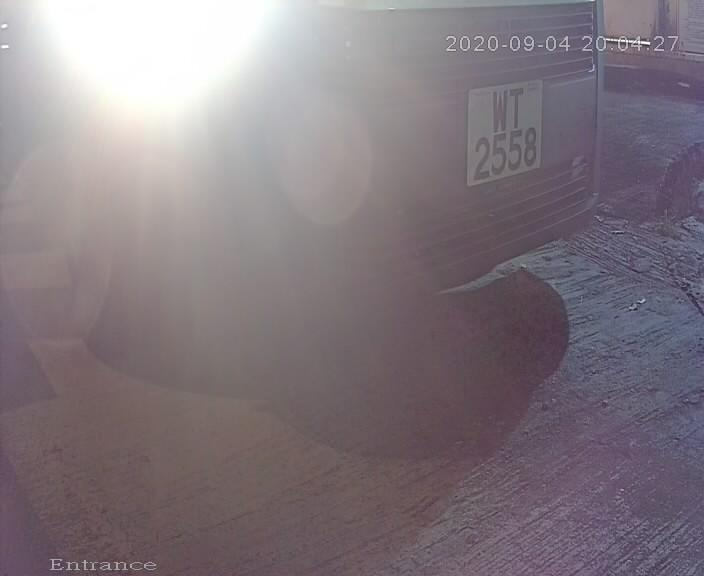License Plate: (447, 72, 551, 201)
